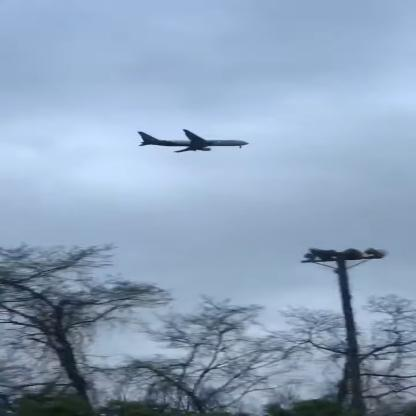plane: (135, 123, 259, 159)
